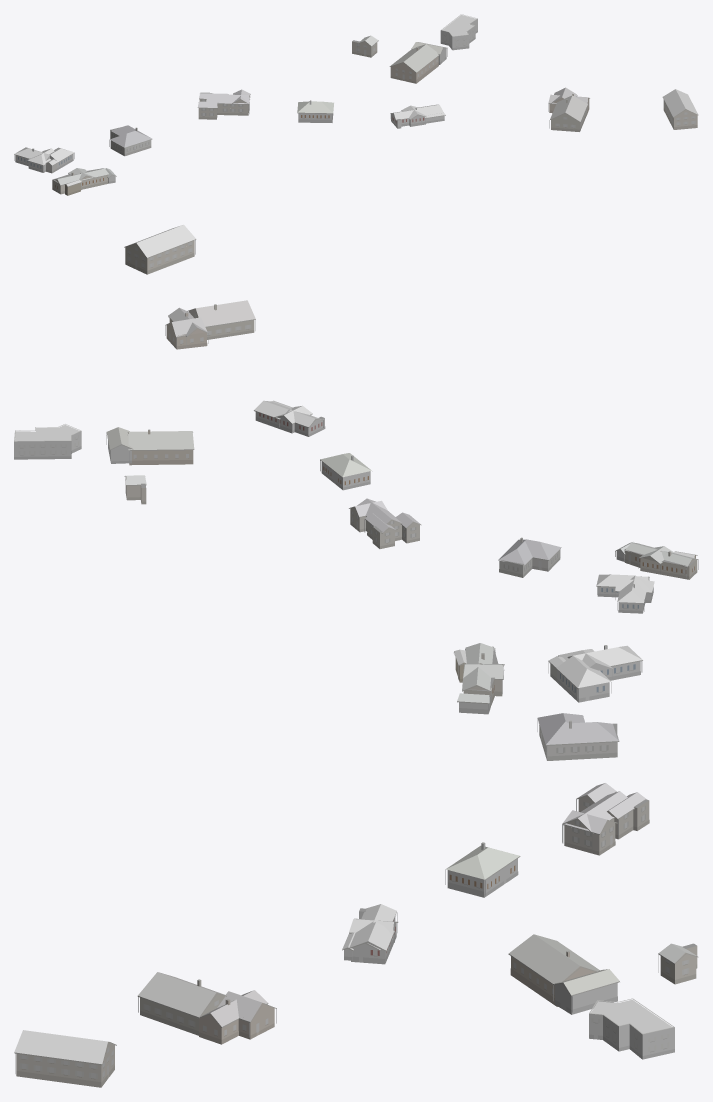
The picture shows the model from 3 angles, top to bottom: view 1: azimuth 30°, elevation 25°; view 2: azimuth 150°, elevation 25°; view 3: azimuth 270°, elevation 25°; orthographic projection. The views are drawn at different scales.
Parts seen in each view (by area): view 1: bld; view 2: bld; view 3: bld.
Boxes of the visible parts, x1,y1,x2,y2 form: bld: (14, 14, 698, 195); bld: (14, 224, 698, 613); bld: (14, 643, 698, 1087).
Bounding box in the file's own units: 250 × 22.5 × 151.
